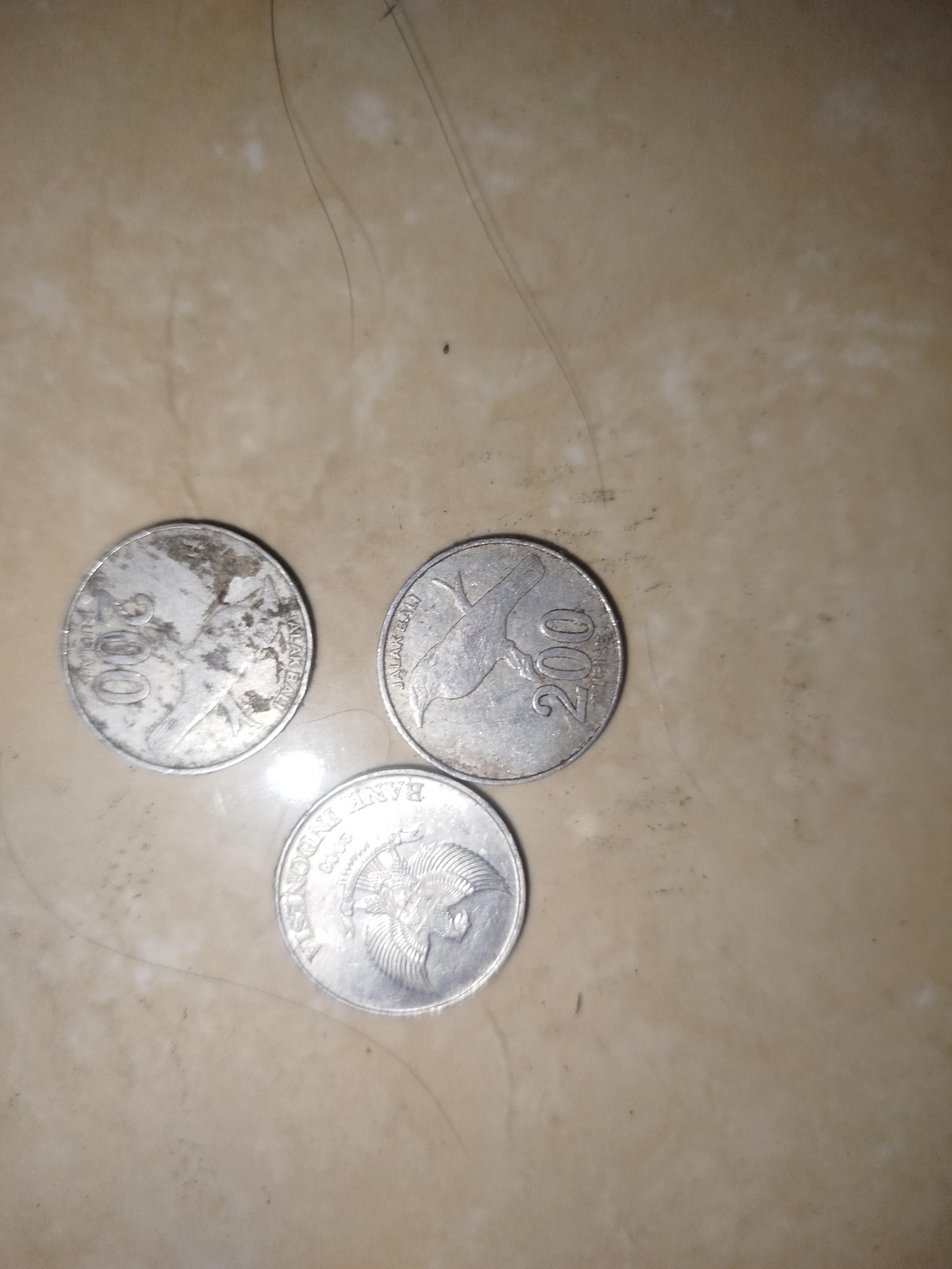coin_200_e2003: (369, 531, 631, 780)
